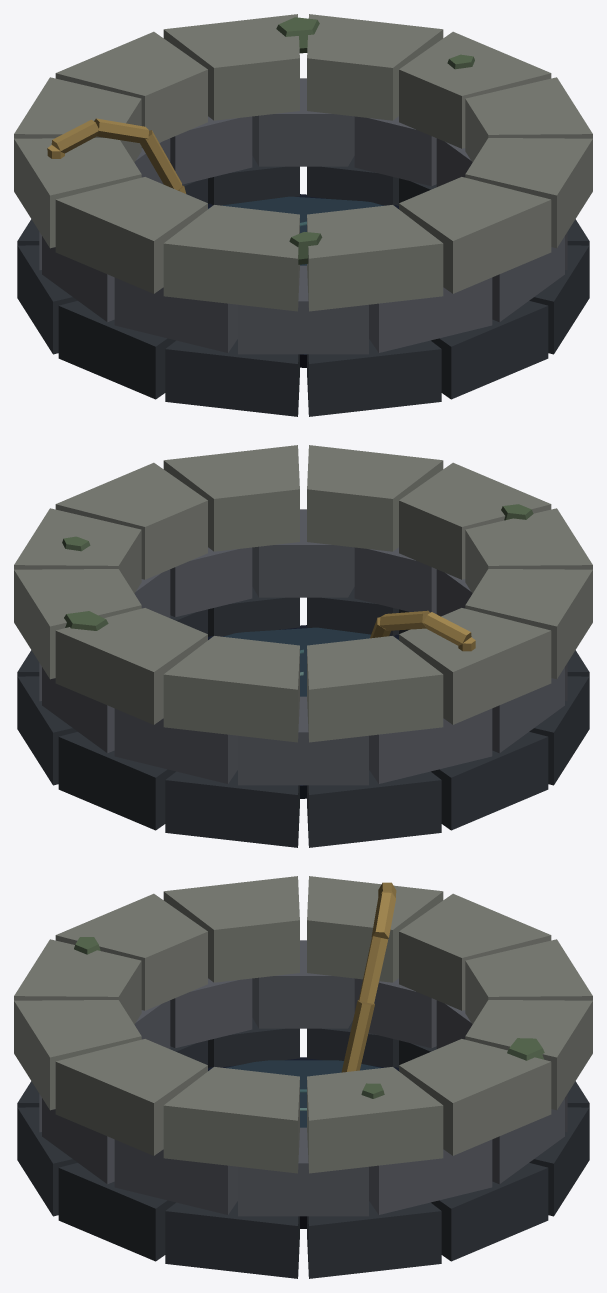
Rendered from drowned-well.glb.
3 views of the same model, one above another, from view 1: azimuth 30°, elevation 25°; view 2: azimuth 150°, elevation 25°; view 3: azimuth 270°, elevation 25° (orthographic).
Parts seen in each view (by area): view 1: The drowned well; view 2: The drowned well; view 3: The drowned well.
Part boxes in pixels (x1,y1,x2,y2): The drowned well: [14, 14, 592, 416]; The drowned well: [14, 445, 592, 847]; The drowned well: [14, 876, 592, 1278].
Size of the model in its own units: 1.66 by 0.5863 by 1.66.
